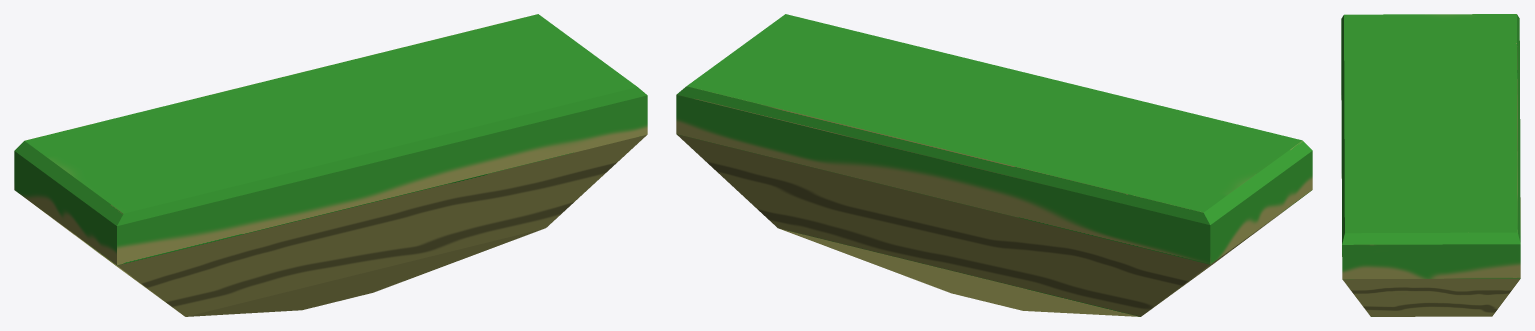
File: plat3x1.obj
The picture shows the model from 3 angles, left to right: view 1: azimuth 30°, elevation 25°; view 2: azimuth 150°, elevation 25°; view 3: azimuth 270°, elevation 25°; orthographic projection. The views are drawn at different scales.
Visible parts, largest first — view 1: Cube; view 2: Cube; view 3: Cube.
Boxes of the visible parts, <box> form: Cube: <box>14,14,647,316</box>; Cube: <box>676,14,1312,316</box>; Cube: <box>1341,14,1520,316</box>.
Bounding box in the file's own units: 6 × 1.98 × 2.01.
